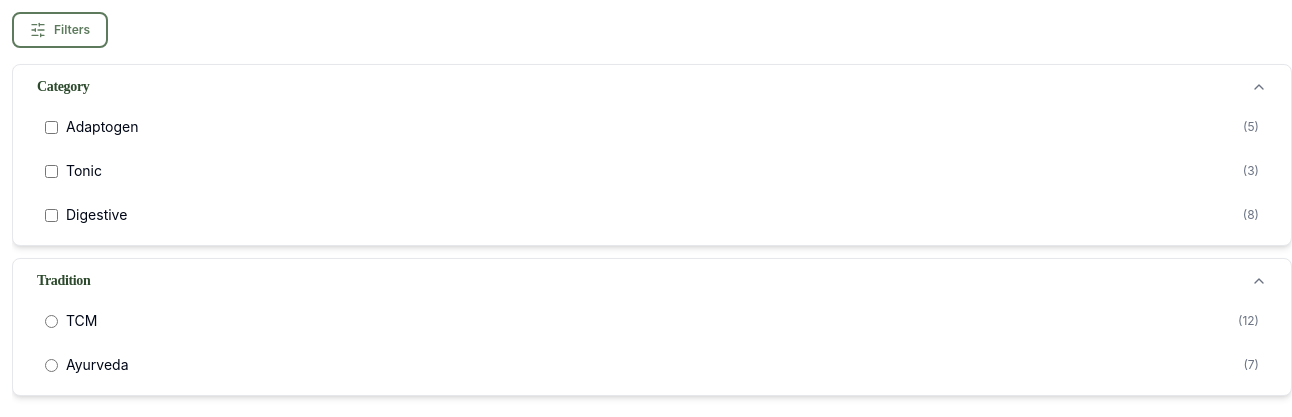
Test: SearchFilters › Filter Group Expansion › collapses group when header is clicked
The image size is (1292, 417).
Expected: the text "Adaptogen" is shown, x1=66 y1=118 x2=138 y2=135
# Click header to collapse
Step 1. Click the heading "Category" → (63, 86), box x1=37 y1=79 x2=89 y2=94
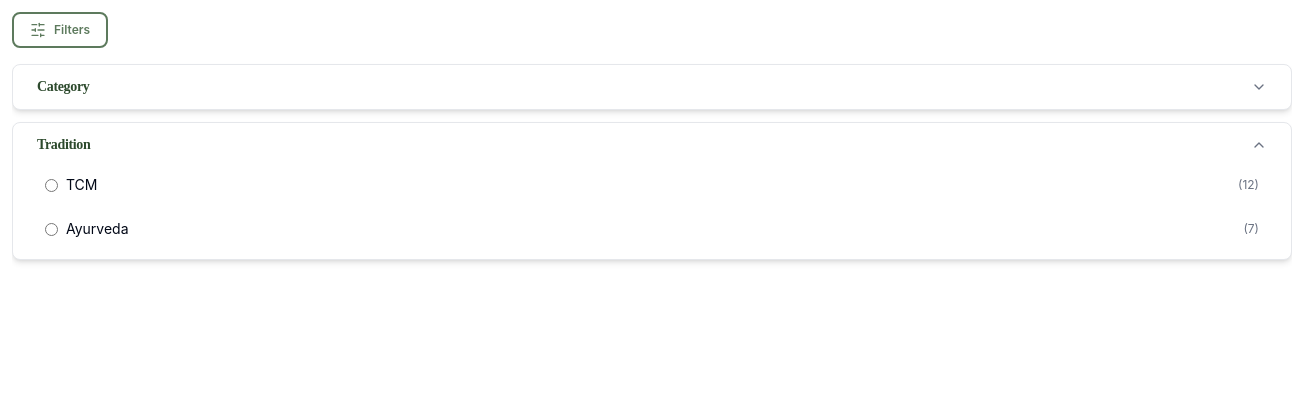
Expected: the text "Adaptogen" is gone
